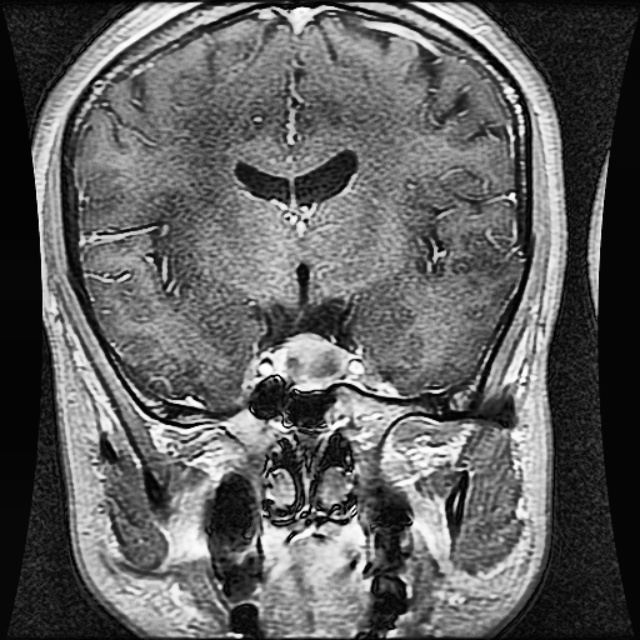Pituitary: (272, 333, 349, 389)
